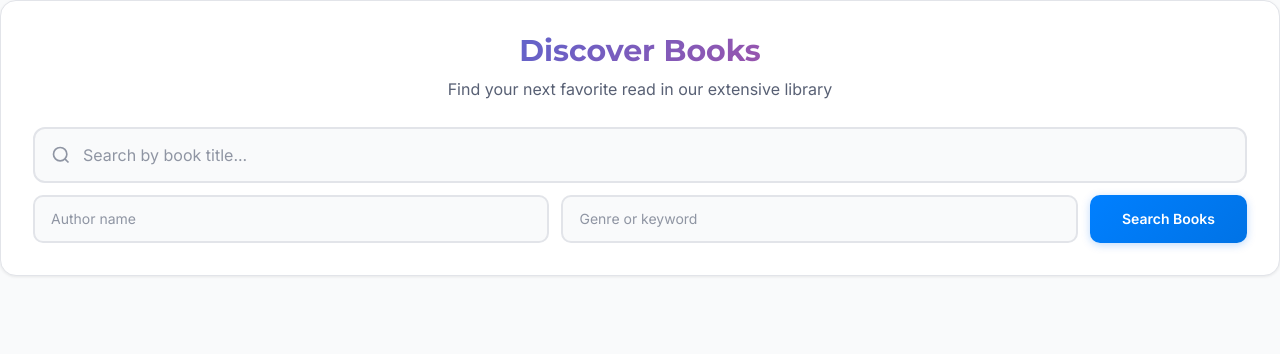
Test: SearchForm › shows error message when no fields are filled
This screenshot has width=1280, height=354.
Click the button "Search Books": (1168, 219) x1=1090 y1=195 x2=1247 y2=243
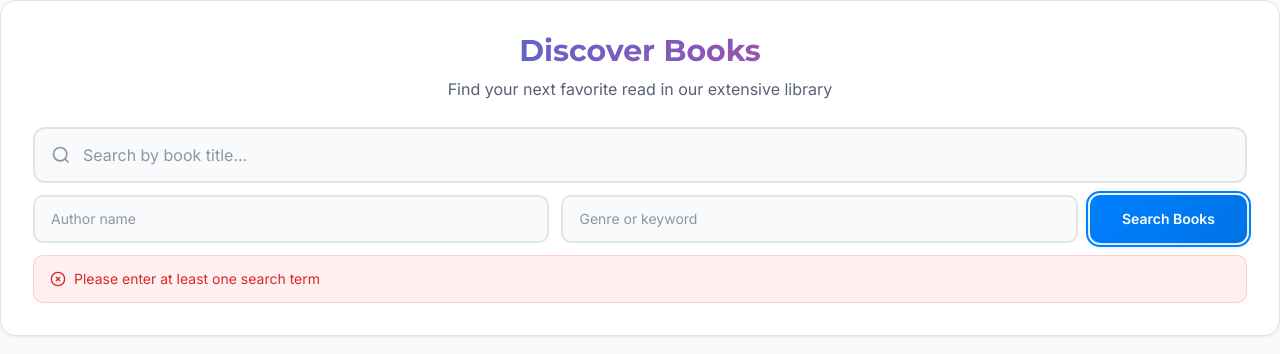
Now the text "Please enter at least one search term" is shown, box x1=74 y1=268 x2=320 y2=290
